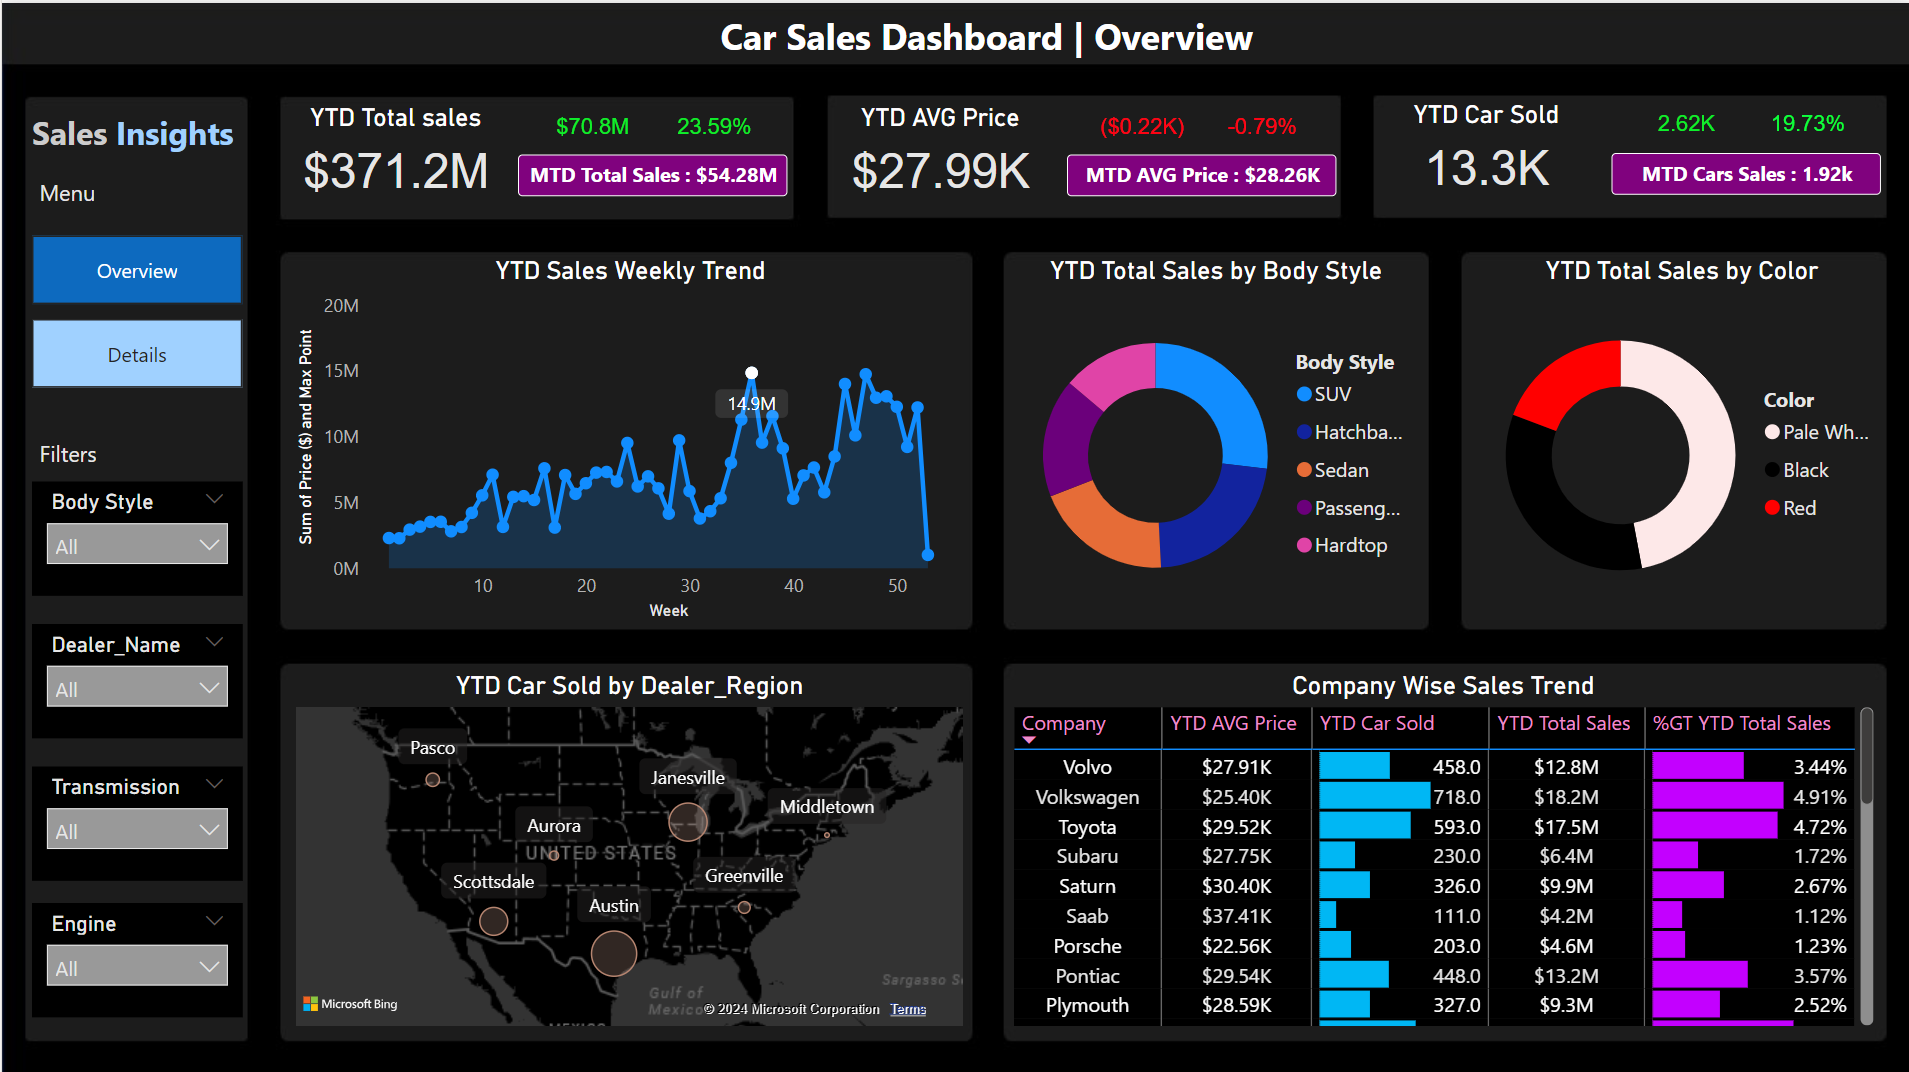

This screenshot's page, from the dashboard's own definition file:
{"tool":"powerbi","page":{"name":"Overview","canvas":[1280,720],"ordinal":0},"visuals":[{"type":"card","title":"YTD Total sales","fields":{"Values":["car_data.YTD Total Sales"]},"box":[192.3,66,143.7,71.8],"z":0},{"type":"card","fields":{"Values":["car_data.Sales Difference"]},"box":[346.5,66,99.7,35.9],"z":1000},{"type":"card","fields":{"Values":["car_data.YOY Sales Growth"]},"box":[427.6,66,99.7,35.9],"z":2000},{"type":"card","fields":{"Values":["car_data.MTD KPI"]},"box":[346.5,102,180.8,27.8],"z":3000},{"type":"card","title":"YTD AVG Price","fields":{"Values":["car_data.YTD Average Price"]},"box":[557.3,66,143.7,71.8],"z":4000},{"type":"card","fields":{"Values":["car_data.AVg Price Difference"]},"box":[713.8,66,99.7,35.9],"z":5000},{"type":"card","fields":{"Values":["car_data.MTD Avg Price KPI"]},"box":[713.8,102,180.8,27.8],"z":6000},{"type":"card","fields":{"Values":["car_data.YOY Avg Price Difference"]},"box":[794.9,66,99.7,35.9],"z":7000},{"type":"card","title":"YTD Car Sold","fields":{"Values":["car_data.YTD Car Sold"]},"box":[922.8,64.6,143.7,71.8],"z":8000},{"type":"card","fields":{"Values":["car_data.Car Sold Diff"]},"box":[1079.2,64.6,99.7,35.9],"z":9000},{"type":"card","fields":{"Values":["car_data.MTD cars Sold KPI"]},"box":[1079.2,100.6,180.8,27.8],"z":10000},{"type":"card","fields":{"Values":["car_data.YOY Car Sold Growth"]},"box":[1160.4,64.6,99.7,35.9],"z":11000},{"type":"areaChart","title":"YTD Sales Weekly Trend","fields":{"Category":["Calender Table.Week"],"Y":["Sum(car_data.Price ($))","car_data.Max Point on Area Chart"]},"box":[192.8,168.6,456.3,248.7],"z":12000},{"type":"donutChart","fields":{"Y":["car_data.YTD Total Sales"],"Category":["car_data.Body Style"]},"box":[673.4,168.6,280.3,248.7],"z":13000},{"type":"donutChart","fields":{"Y":["car_data.YTD Total Sales"],"Category":["car_data.Color"]},"box":[983.2,168.6,285.6,248.7],"z":14000},{"type":"map","fields":{"Category":["car_data.Dealer_Region"],"Size":["car_data.YTD Car Sold"]},"box":[192.2,447.8,457.1,243.1],"z":15000},{"type":"tableEx","title":"Company Wise Sales Trend","fields":{"Values":["car_data.Company","car_data.YTD Average Price","car_data.YTD Car Sold","car_data.YTD Total Sales1","car_data.YTD Total Sales"]},"box":[673.2,447.8,587,243.1],"z":16000},{"type":"textbox","box":[476.9,0,380.3,46.8],"z":17000},{"type":"slicer","fields":{"Values":["car_data.Body Style"]},"box":[19.7,321,141.3,76.9],"z":18000},{"type":"slicer","fields":{"Values":["car_data.Dealer_Name"]},"box":[19.7,416.6,141.3,76.9],"z":19000},{"type":"slicer","fields":{"Values":["car_data.Transmission"]},"box":[19.7,512.2,141.3,76.9],"z":20000},{"type":"slicer","fields":{"Values":["car_data.Engine"]},"box":[19.7,603.7,141.3,76.9],"z":21000},{"type":"textbox","box":[19.7,286.8,63.4,34.3],"z":22000},{"type":"textbox","box":[15.6,66.5,160,47.8],"z":23000},{"type":"textbox","box":[19.7,111.2,60.3,34.3],"z":24000},{"type":"pageNavigator","box":[19.7,155.8,141.3,102.9],"z":25000}]}

Visuals, with their boxes in screenshot pixels (x1, y1, x2, y2), scaled from the page's 1280x720 canvas onto the 1909x1072 screenshot:
"YTD Total sales" card: select_region(287, 98, 501, 205)
card - car_data.Sales Difference: select_region(517, 98, 665, 152)
card - car_data.YOY Sales Growth: select_region(638, 98, 786, 152)
card - car_data.MTD KPI: select_region(517, 152, 786, 193)
"YTD AVG Price" card: select_region(831, 98, 1045, 205)
card - car_data.AVg Price Difference: select_region(1065, 98, 1213, 152)
card - car_data.MTD Avg Price KPI: select_region(1065, 152, 1334, 193)
card - car_data.YOY Avg Price Difference: select_region(1186, 98, 1334, 152)
"YTD Car Sold" card: select_region(1376, 96, 1591, 203)
card - car_data.Car Sold Diff: select_region(1610, 96, 1758, 150)
card - car_data.MTD cars Sold KPI: select_region(1610, 150, 1879, 191)
card - car_data.YOY Car Sold Growth: select_region(1731, 96, 1879, 150)
"YTD Sales Weekly Trend" areaChart: select_region(288, 251, 968, 621)
donutChart - car_data.YTD Total Sales x car_data.Body Style: select_region(1004, 251, 1422, 621)
donutChart - car_data.YTD Total Sales x car_data.Color: select_region(1466, 251, 1892, 621)
map - car_data.Dealer_Region x car_data.YTD Car Sold: select_region(287, 667, 968, 1029)
"Company Wise Sales Trend" tableEx: select_region(1004, 667, 1879, 1029)
textbox: select_region(711, 0, 1278, 70)
slicer - car_data.Body Style: select_region(29, 478, 240, 592)
slicer - car_data.Dealer_Name: select_region(29, 620, 240, 735)
slicer - car_data.Transmission: select_region(29, 763, 240, 877)
slicer - car_data.Engine: select_region(29, 899, 240, 1013)
textbox: select_region(29, 427, 124, 478)
textbox: select_region(23, 99, 262, 170)
textbox: select_region(29, 166, 119, 217)
pageNavigator: select_region(29, 232, 240, 385)
